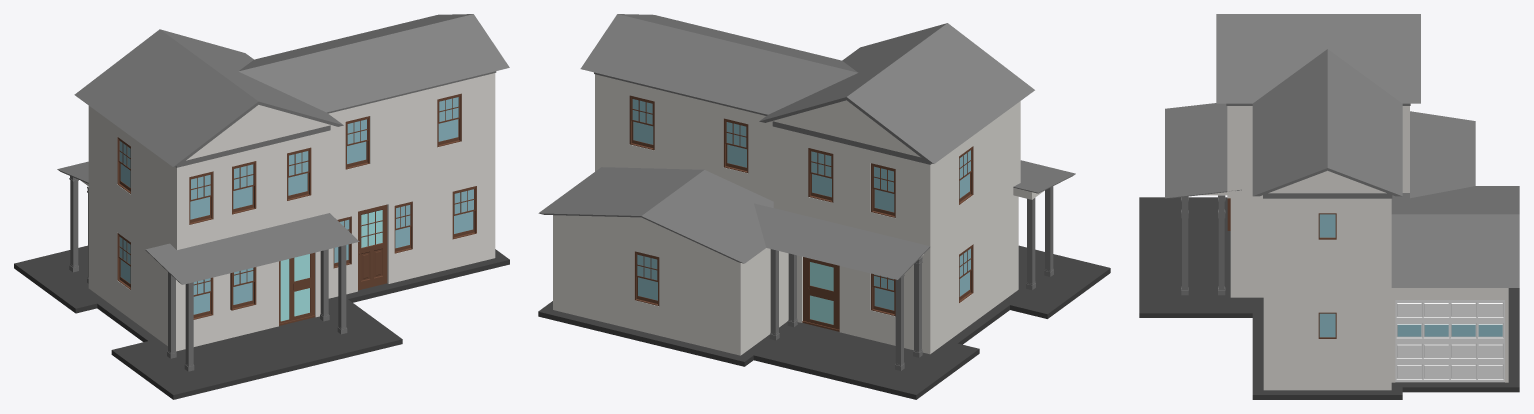
Rendered from task-8-x.obj.
The picture shows the model from 3 angles, left to right: view 1: azimuth 30°, elevation 25°; view 2: azimuth 150°, elevation 25°; view 3: azimuth 270°, elevation 25°; orthographic projection. The views are drawn at different scales.
Parts seen in each view (by area): view 1: wall, ground_base, roof_0, roof_1, roof_3, door_frame_2, door_glass_0, ledge, door_frame_0, pillar_1, window_glass_15, pillar_6 (+22 smaller); view 2: wall, roof_0, ground_base, roof_1, roof_2, roof_4, door_frame_1, ledge, door_glass_1, roof_3, window_glass_18, pillar_1 (+15 smaller); view 3: wall, roof_1, ground_base, roof_0, roof_2, garage_door_frame_0, roof_3, roof_4, garage_door_glass_0, ledge, pillar_2, pillar_6 (+2 smaller).
Boxes of the visible parts, x1=… form: wall: x1=81, y1=73, x2=495, y2=351; ground_base: x1=14, y1=245, x2=509, y2=399; roof_0: x1=74, y1=29, x2=343, y2=166; roof_1: x1=238, y1=14, x2=509, y2=112; roof_3: x1=145, y1=213, x2=359, y2=284; door_frame_2: x1=358, y1=204, x2=387, y2=290; door_glass_0: x1=280, y1=254, x2=309, y2=321; ledge: x1=175, y1=71, x2=496, y2=167; door_frame_0: x1=279, y1=252, x2=315, y2=325; pillar_1: x1=69, y1=176, x2=78, y2=272; window_glass_15: x1=438, y1=97, x2=458, y2=141; pillar_6: x1=337, y1=245, x2=347, y2=334; wall: x1=553, y1=74, x2=1044, y2=355; roof_0: x1=759, y1=23, x2=1034, y2=163; ground_base: x1=538, y1=245, x2=1110, y2=399; roof_1: x1=580, y1=14, x2=858, y2=114; roof_2: x1=538, y1=167, x2=773, y2=263; roof_4: x1=754, y1=203, x2=930, y2=279; door_frame_1: x1=802, y1=257, x2=839, y2=331; ledge: x1=594, y1=72, x2=931, y2=164; door_glass_1: x1=810, y1=262, x2=833, y2=324; roof_3: x1=1013, y1=160, x2=1075, y2=193; window_glass_18: x1=632, y1=99, x2=653, y2=144; pillar_1: x1=895, y1=274, x2=904, y2=370; wall: x1=1200, y1=106, x2=1508, y2=390; roof_1: x1=1252, y1=49, x2=1402, y2=196; ground_base: x1=1139, y1=197, x2=1519, y2=399; roof_0: x1=1216, y1=14, x2=1420, y2=103; roof_2: x1=1391, y1=186, x2=1519, y2=287; garage_door_frame_0: x1=1395, y1=300, x2=1504, y2=382; roof_3: x1=1165, y1=103, x2=1241, y2=198; roof_4: x1=1410, y1=111, x2=1475, y2=198; garage_door_glass_0: x1=1397, y1=324, x2=1502, y2=336; ledge: x1=1226, y1=103, x2=1410, y2=198; pillar_2: x1=1218, y1=195, x2=1225, y2=295; pillar_6: x1=1181, y1=196, x2=1188, y2=295.
Bounding box in the file's own units: 12.8 × 7.55 × 10.4.
